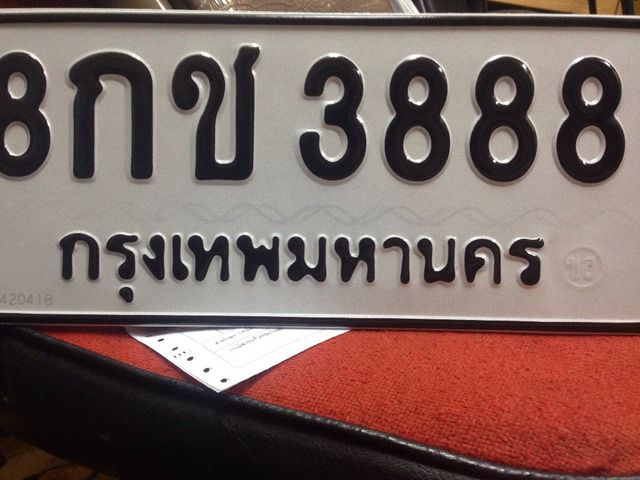Bangkok: (44, 205, 554, 320)
